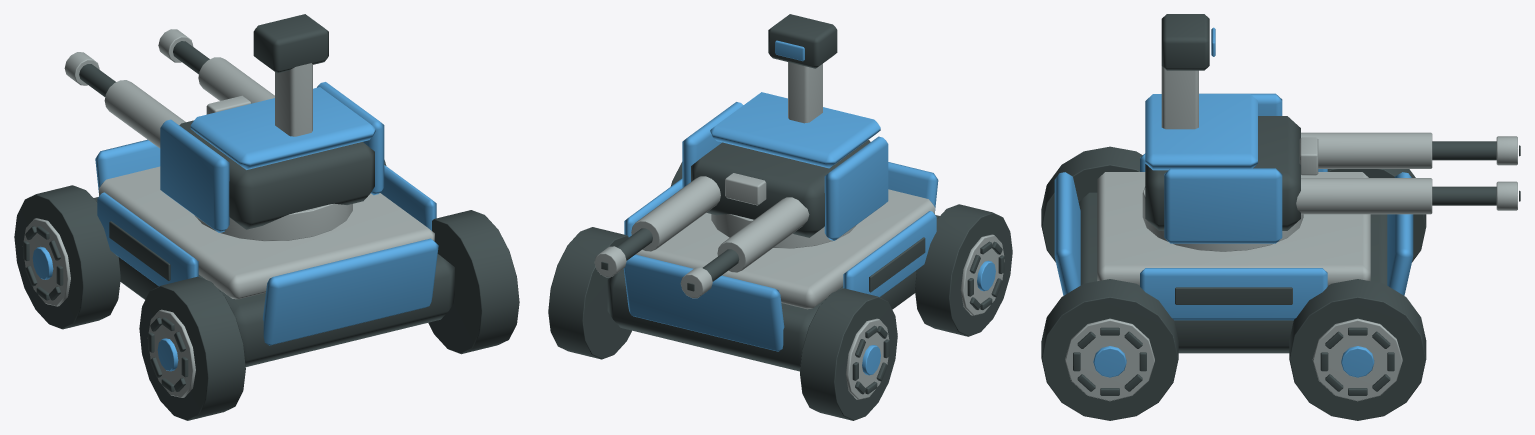
File: sentry-blue.glb
3 renders of one model, left to right at view 1: azimuth 30°, elevation 25°; view 2: azimuth 150°, elevation 25°; view 3: azimuth 270°, elevation 25°, orthographic. The views are drawn at different scales.
Visible parts, largest first — view 1: sentry-chassis, sentry-armor, sentry-mechanics; view 2: sentry-chassis, sentry-armor, sentry-mechanics; view 3: sentry-chassis, sentry-mechanics, sentry-armor.
Boxes of the visible parts, x1,y1,x2,y2 form: sentry-chassis: (14,14,519,420); sentry-armor: (32,82,438,371); sentry-mechanics: (22,29,434,397); sentry-chassis: (548,14,1012,420); sentry-armor: (623,40,995,375); sentry-mechanics: (594,62,1004,399); sentry-chassis: (1041,14,1520,420); sentry-mechanics: (1065,66,1517,401); sentry-armor: (1054,27,1413,377).
Size of the model in its own units: 0.7 by 0.66 by 0.8935.
